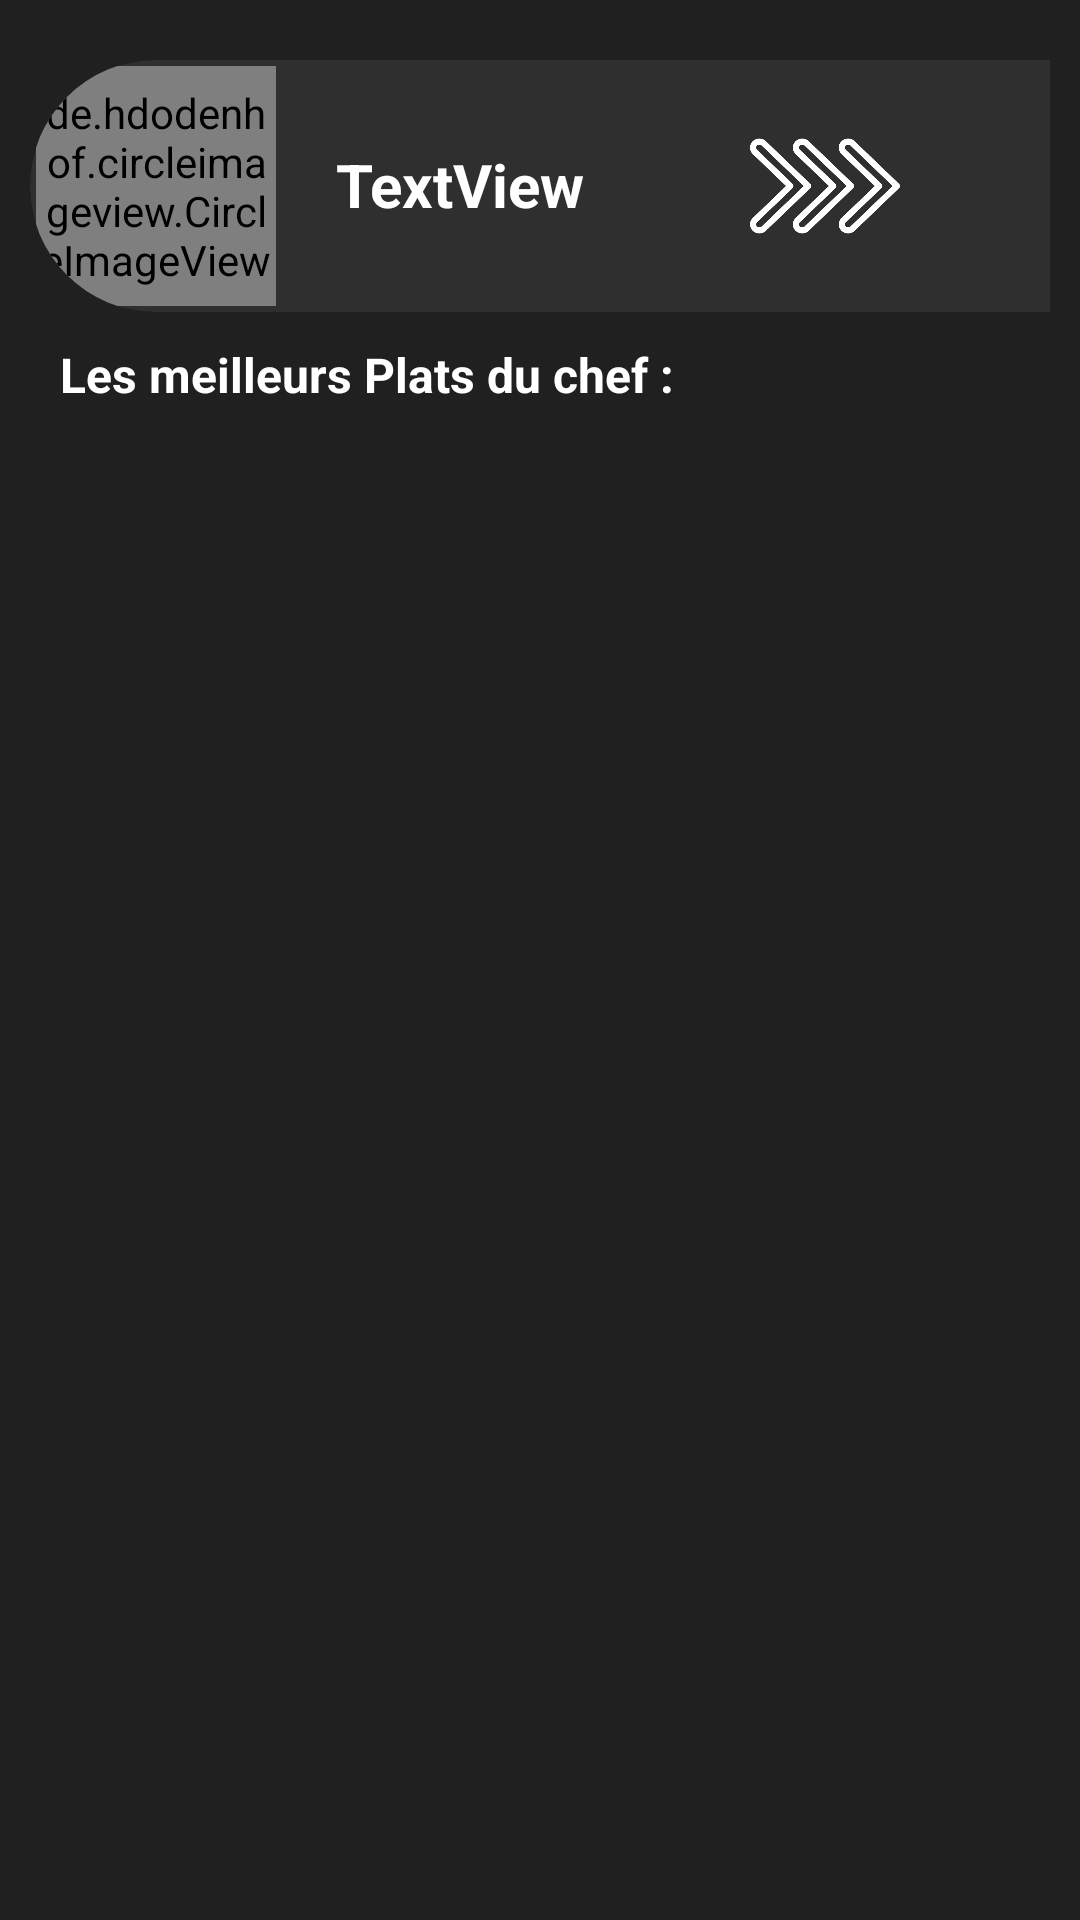

Where icons sit on this 1080w x 1920h app screen, as Rect(x1, y1, x2, y2):
swipe: Rect(750, 138, 900, 234)
